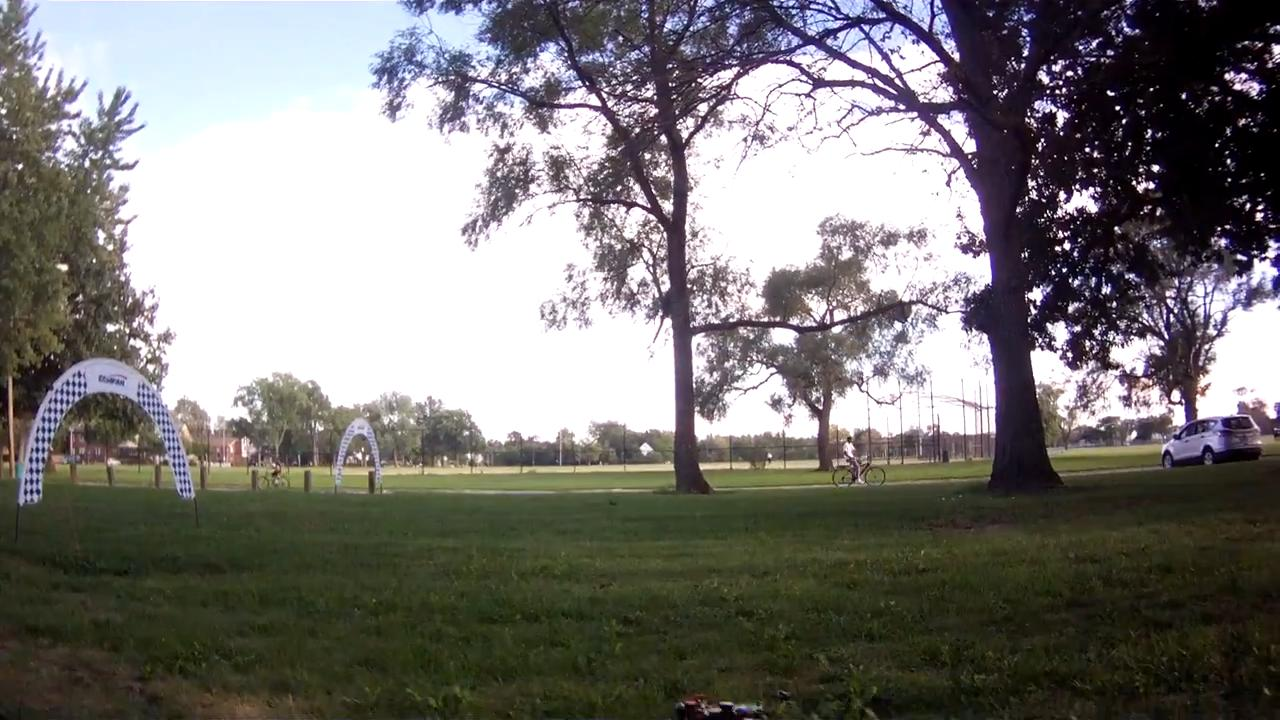gate: (16, 357, 197, 510)
